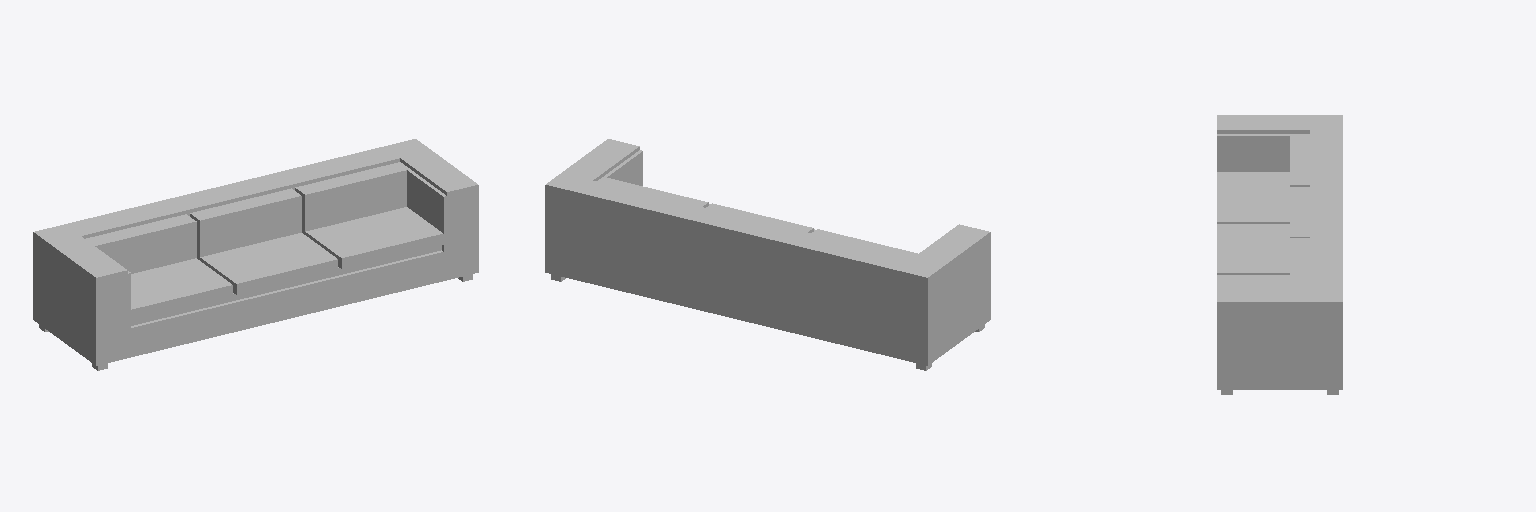
File: Couch.obj
3 renders of one model, left to right at view 1: azimuth 30°, elevation 25°; view 2: azimuth 150°, elevation 25°; view 3: azimuth 270°, elevation 25°, orthographic.
Visible parts, largest first — view 1: Couch; view 2: Couch; view 3: Couch.
Boxes of the visible parts, <box> form: Couch: <box>33,139,478,370</box>; Couch: <box>545,139,990,370</box>; Couch: <box>1217,115,1342,394</box>.
Bounding box in the file's own units: 109 × 26 × 31.